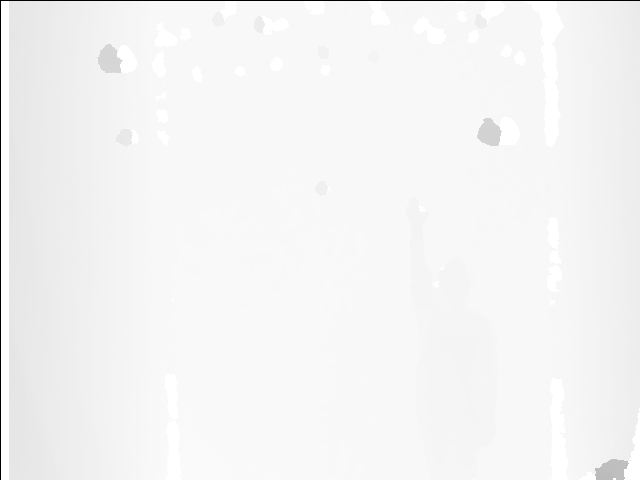hand: (403, 199, 430, 239)
